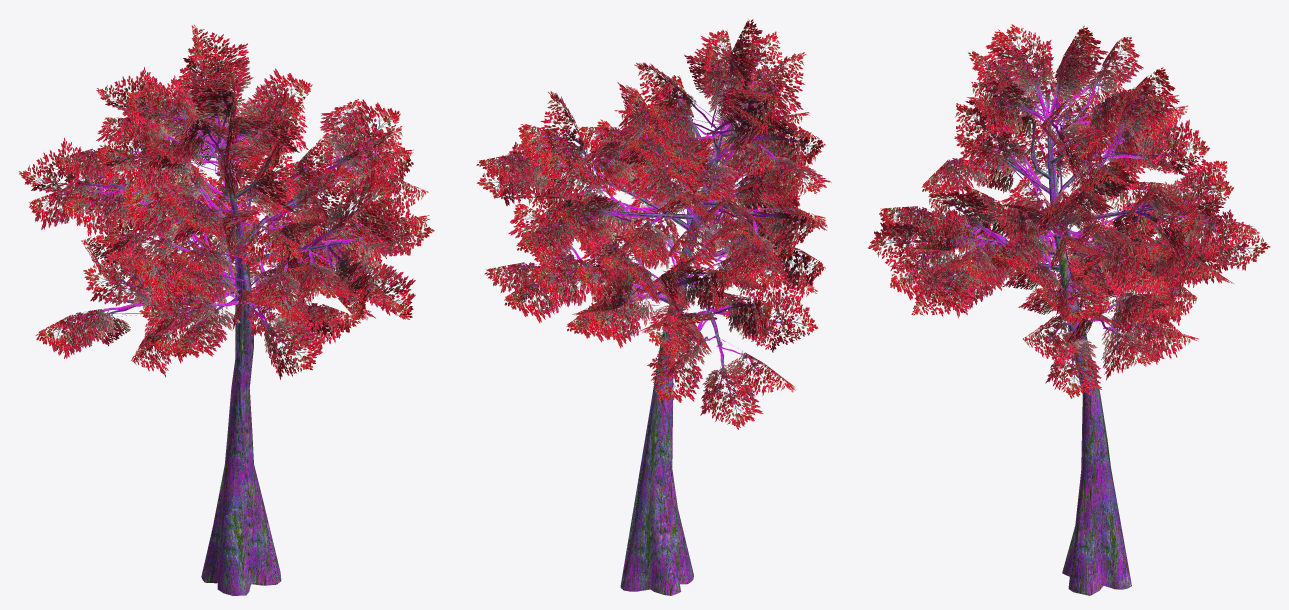
File: CiabaTree_01.dae
3 views of the same model, side by side, from view 1: azimuth 30°, elevation 25°; view 2: azimuth 150°, elevation 25°; view 3: azimuth 270°, elevation 25° (orthographic). The views are drawn at different scales.
Parts seen in each view (by area): view 1: CiabaTreeOne128, CiabaTreeOne256, CiabaTreeOne96; view 2: CiabaTreeOne256, CiabaTreeOne128, CiabaTreeOne96; view 3: CiabaTreeOne128, CiabaTreeOne256, CiabaTreeOne96.
Part boxes in pixels (x1,y1,x2,y2): CiabaTreeOne128: [18, 24, 433, 585]; CiabaTreeOne256: [19, 25, 434, 595]; CiabaTreeOne96: [20, 44, 413, 579]; CiabaTreeOne256: [476, 19, 829, 595]; CiabaTreeOne128: [476, 20, 831, 595]; CiabaTreeOne96: [477, 19, 818, 588]; CiabaTreeOne128: [867, 24, 1269, 595]; CiabaTreeOne256: [869, 25, 1270, 595]; CiabaTreeOne96: [870, 34, 1258, 588].
Size of what is drawn, in the model's own units: 342 by 335 by 480.
